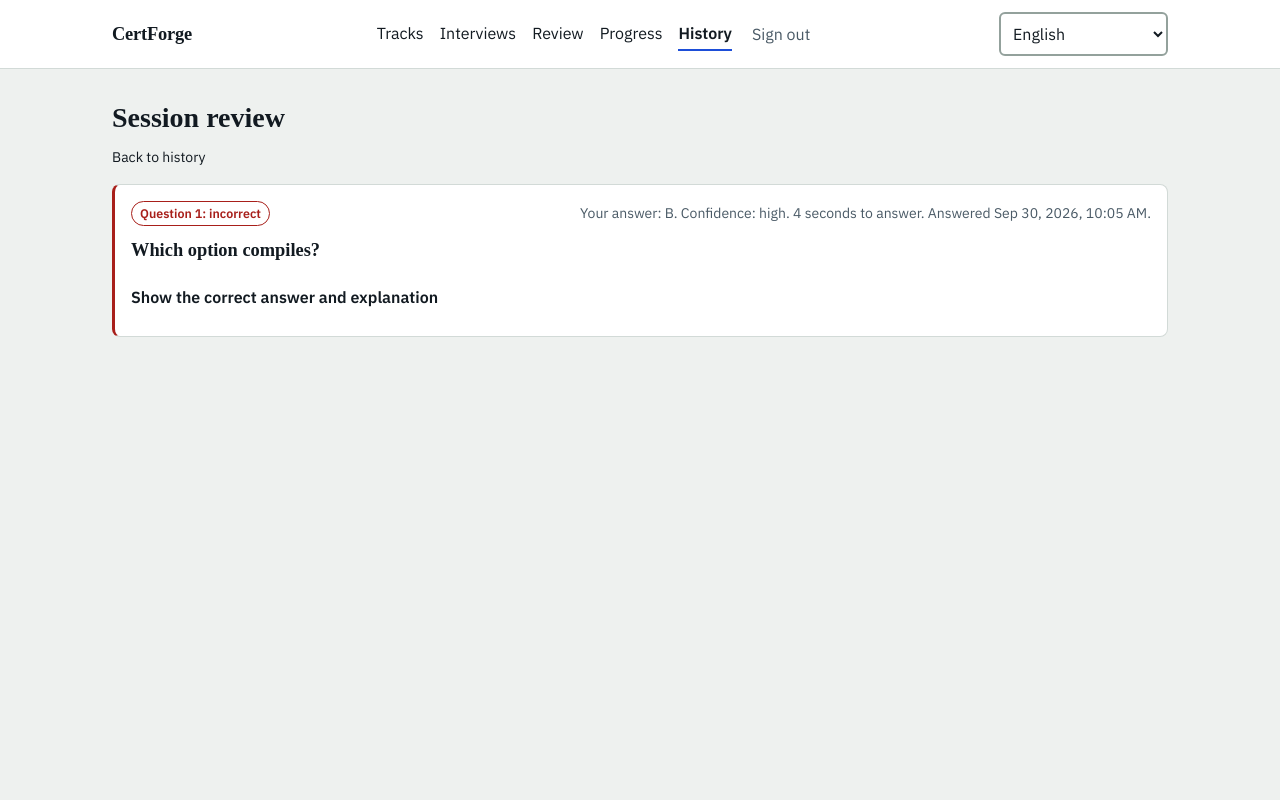
Scenario: session review › shows each answer with the correct one and the explanation on request
Expected: the heading "Question 1: incorrect" is shown, [131,201,270,226]
Expected: the text "Your answer: B. Confidence: high" is shown, [580,204,994,222]
Click the heading "Show the correct answer and explanation" at [285, 297], box [131,287,438,307]
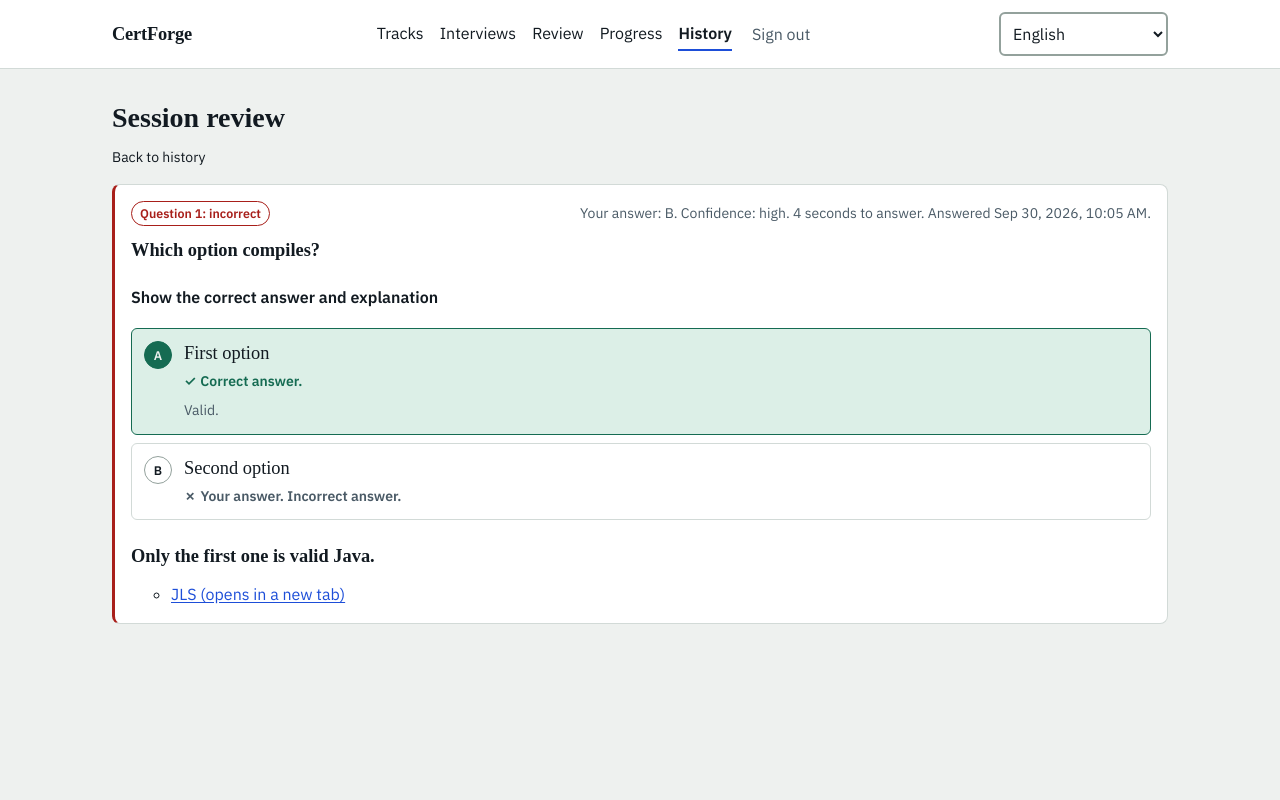
Now the text "Only the first one is valid Java." is shown, box [131,546,375,566]
